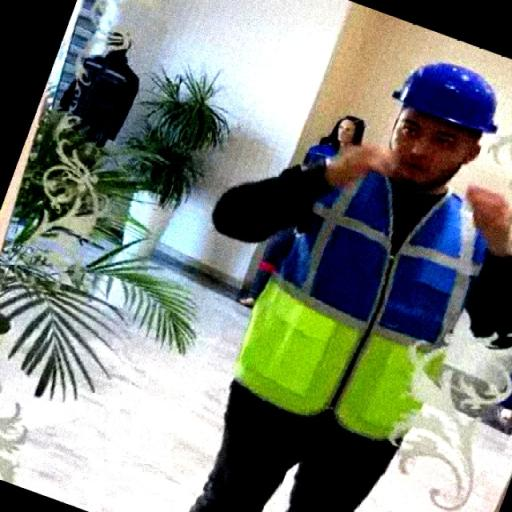Person: (190, 48, 500, 510)
helmet: (385, 50, 497, 140)
vest: (228, 158, 497, 464)
